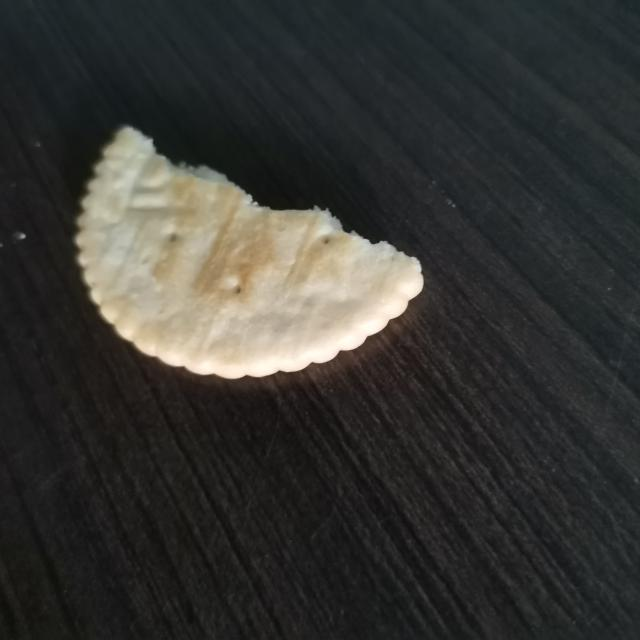Broken: (73, 124, 424, 380)
